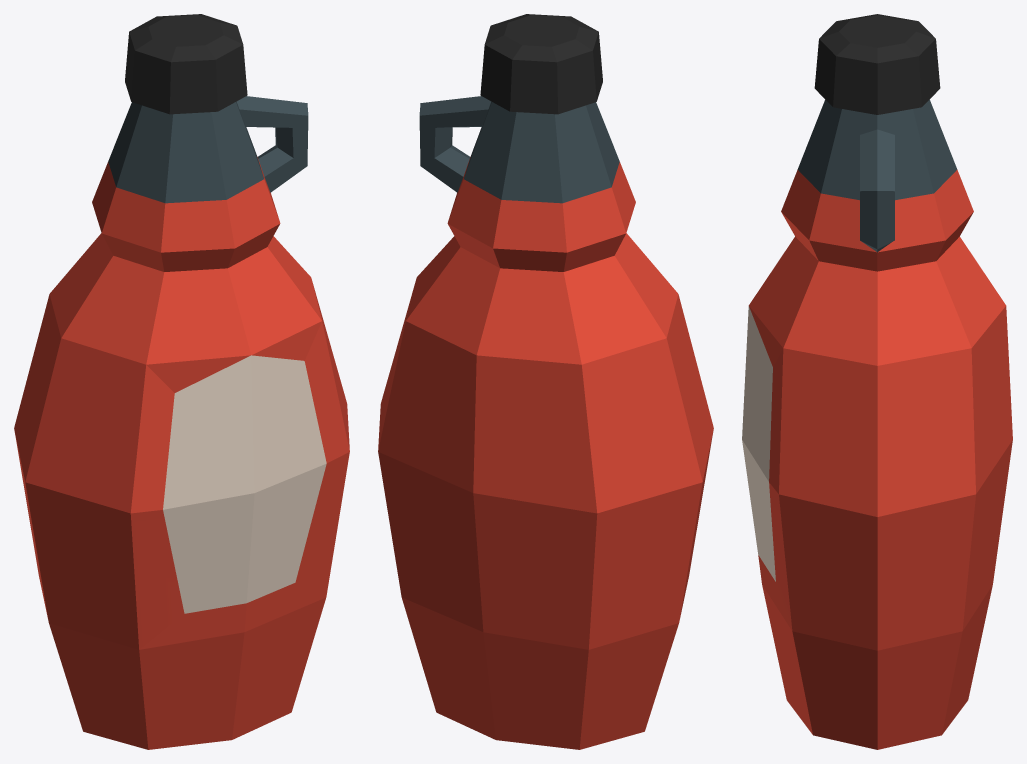
File: food_jar-syrup.fbx
The picture shows the model from 3 angles, left to right: view 1: azimuth 30°, elevation 25°; view 2: azimuth 150°, elevation 25°; view 3: azimuth 270°, elevation 25°; orthographic projection.
Parts seen in each view (by area): view 1: food_jar_syrup; view 2: food_jar_syrup; view 3: food_jar_syrup.
Boxes of the visible parts, <box> form: food_jar_syrup: <box>14,14,349,749</box>; food_jar_syrup: <box>378,14,713,749</box>; food_jar_syrup: <box>742,14,1012,749</box>.
Bounding box in the file's own units: 98.59 × 200 × 72.61.
